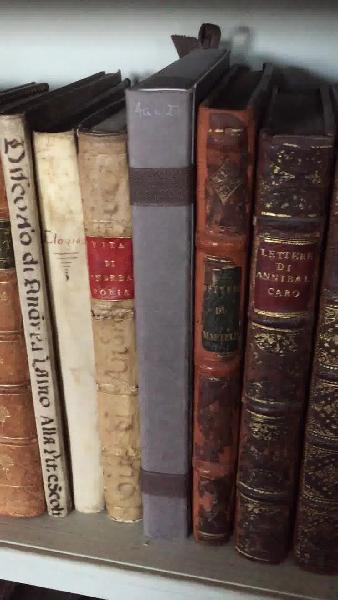Aa6-24: (1, 118, 76, 513)
Aa6-25: (30, 133, 131, 517)
Aa6-26: (72, 129, 148, 518)
Aa6-27: (123, 86, 204, 544)
Aa6-28: (195, 89, 248, 543)
Aa6-29: (238, 140, 312, 561)
